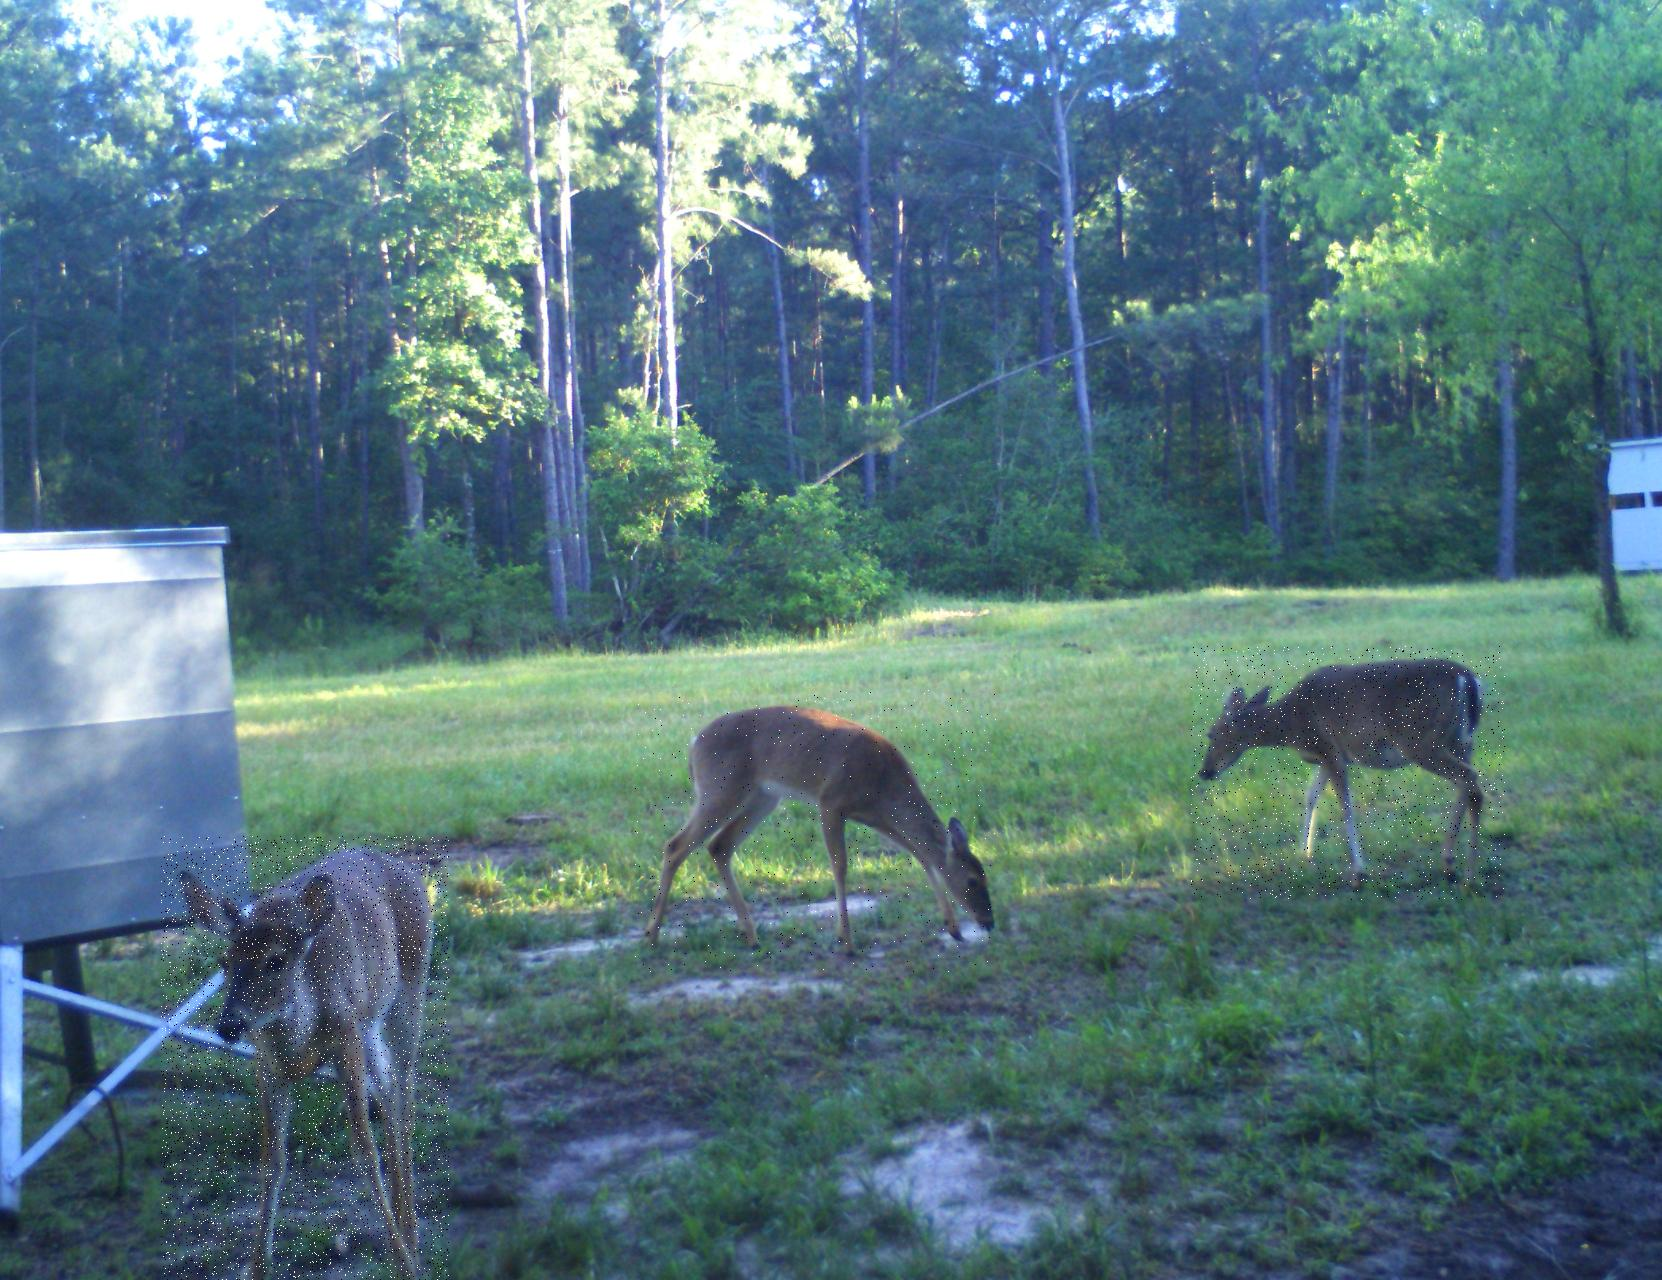Deer: (161, 836, 449, 1280), (635, 690, 996, 972), (1191, 645, 1505, 901)
